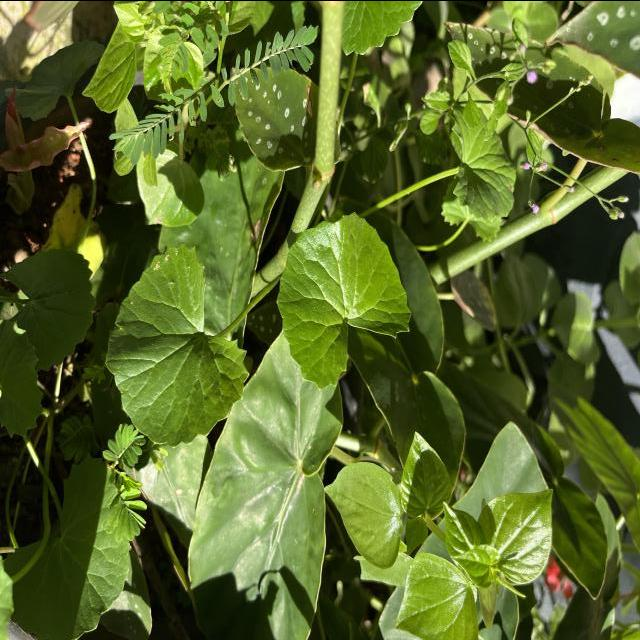Centella asiatica: (104, 240, 252, 448), (275, 210, 413, 392)
